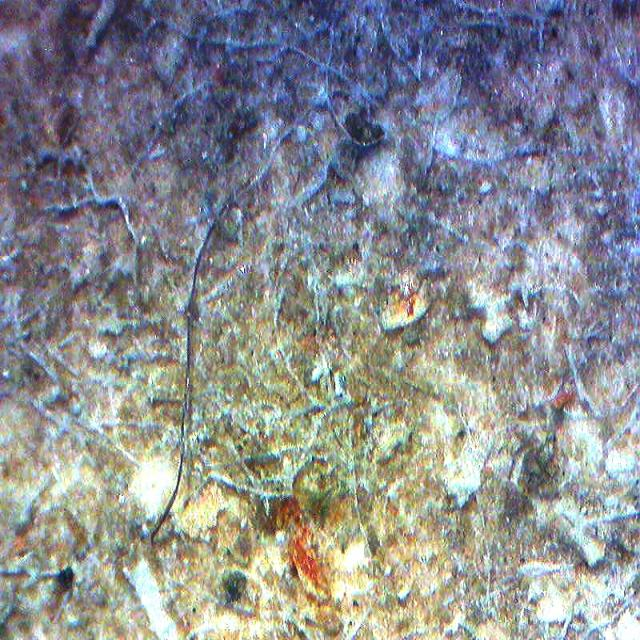microplastic: (138, 190, 240, 546)
